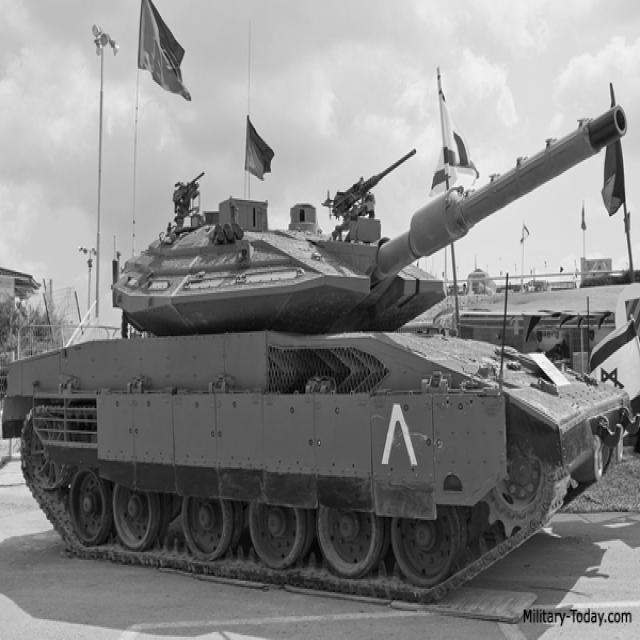Tank: (10, 98, 627, 584)
